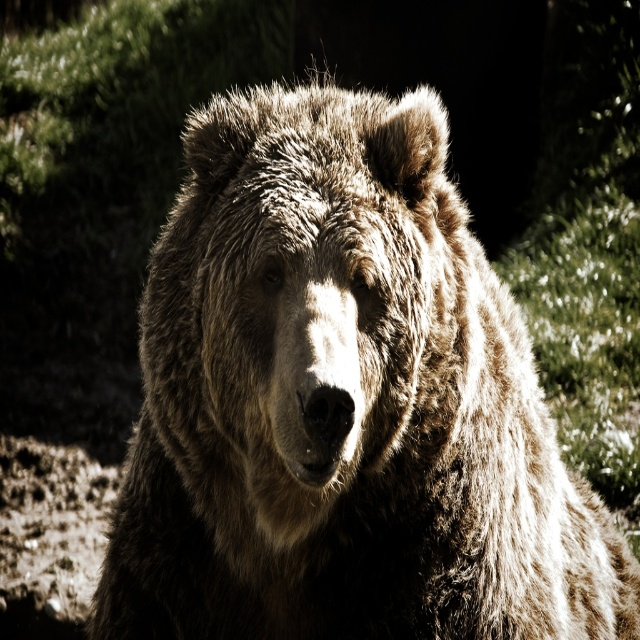Brown bear: (81, 52, 640, 639)
